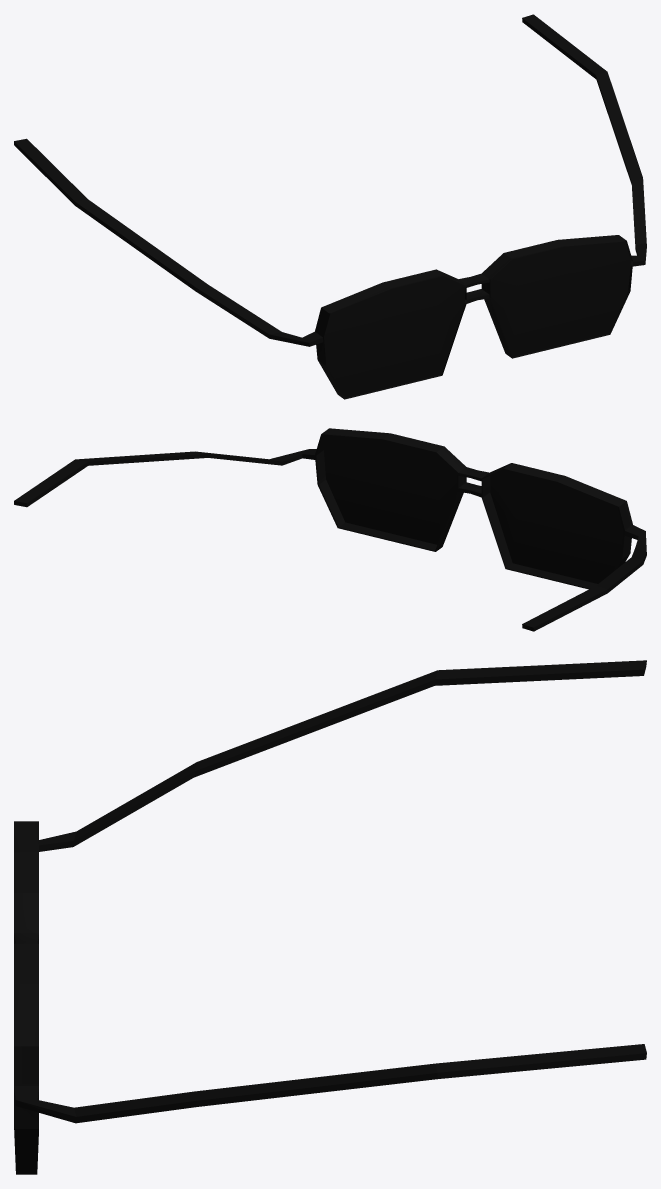
Rendered from Basic SunGlasses.fbx.
3 renders of one model, top to bottom at view 1: azimuth 30°, elevation 25°; view 2: azimuth 150°, elevation 25°; view 3: azimuth 270°, elevation 25°, orthographic. The views are drawn at different scales.
Visible parts, largest first — view 1: Cube; view 2: Cube; view 3: Cube.
Boxes of the visible parts, left/top/right/bottom form: Cube: left=14, top=14, right=646, bottom=399; Cube: left=14, top=428, right=646, bottom=631; Cube: left=14, top=660, right=646, bottom=1174.
Size of the model in its own units: 26.25 by 6.61 by 17.44.
